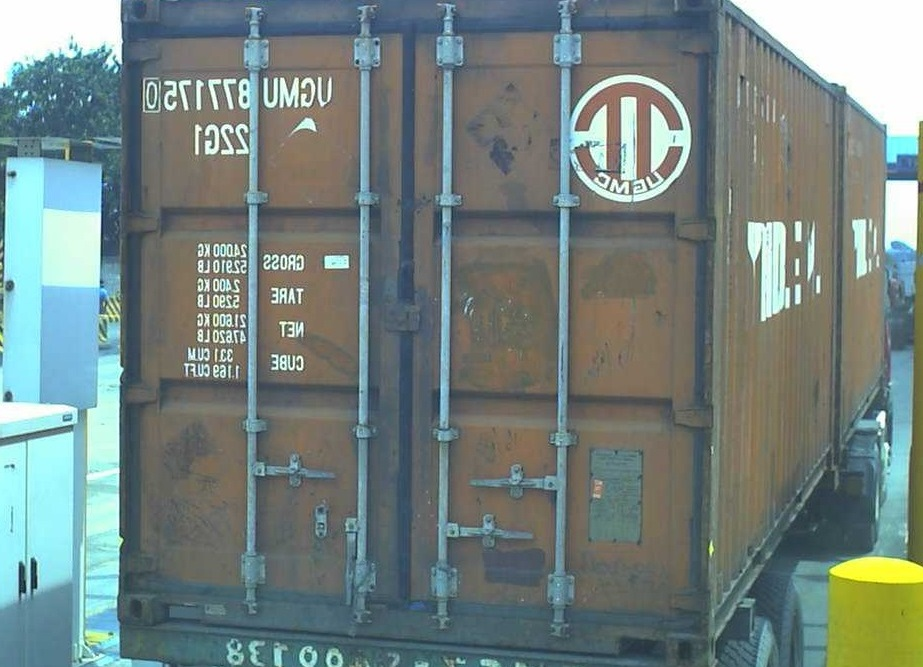container_door: (120, 6, 720, 655)
